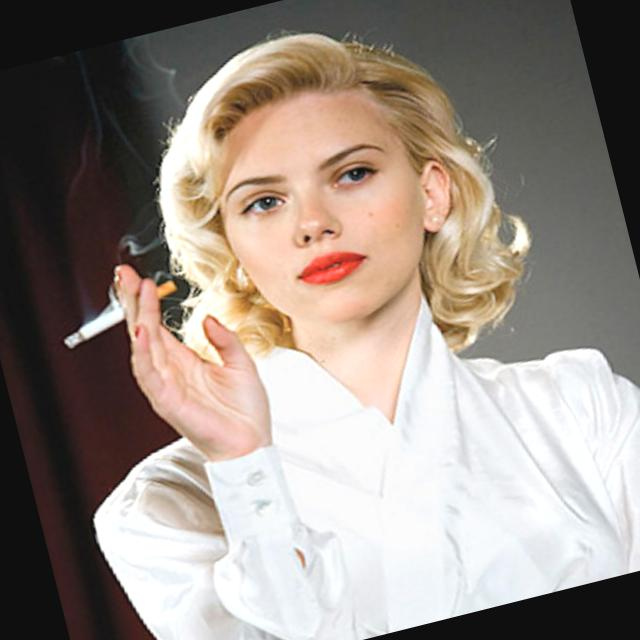cigarette: (39, 241, 198, 378)
